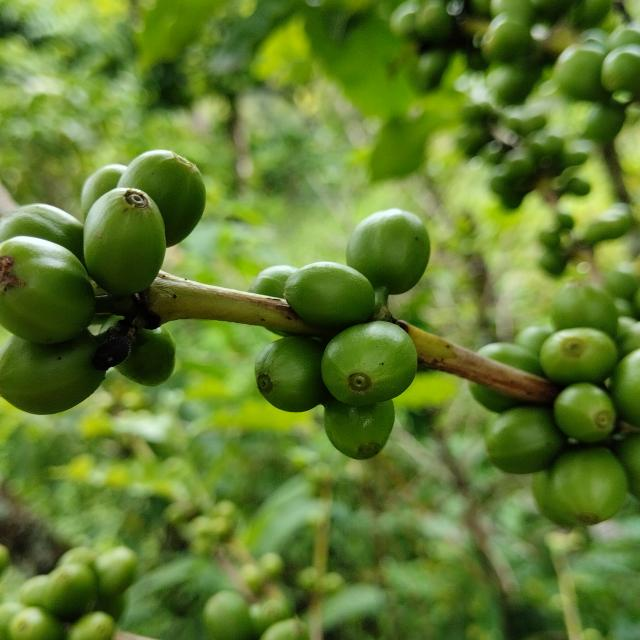green: (0, 236, 95, 344), (83, 187, 166, 296), (0, 330, 105, 415), (116, 149, 205, 247), (322, 321, 418, 406), (533, 447, 629, 527), (346, 208, 431, 294), (284, 261, 375, 328), (255, 336, 330, 412), (486, 406, 566, 474), (0, 203, 84, 265), (541, 328, 619, 385), (324, 399, 395, 460), (555, 383, 618, 443), (552, 281, 619, 336), (115, 327, 175, 387), (80, 164, 126, 218), (612, 349, 640, 427), (479, 343, 545, 376), (248, 265, 298, 298), (470, 382, 522, 413), (266, 328, 292, 337)
